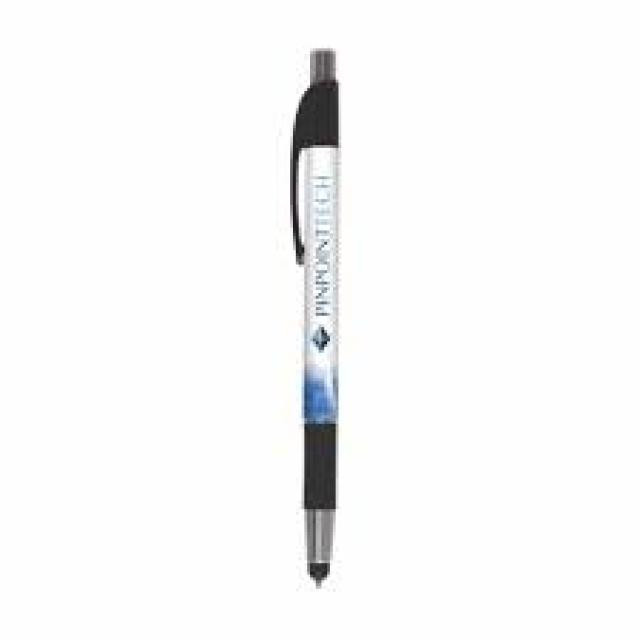pen: (291, 47, 338, 591)
